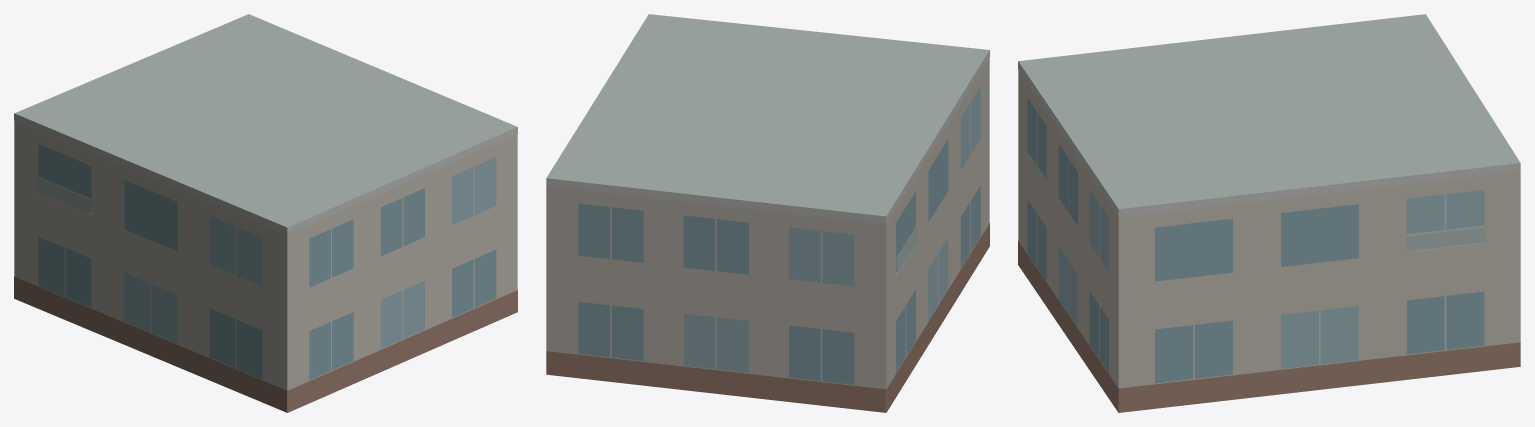
Rendered from survey-upis-32652762.glb.
The picture shows the model from 3 angles, left to right: view 1: azimuth 30°, elevation 25°; view 2: azimuth 150°, elevation 25°; view 3: azimuth 270°, elevation 25°; orthographic projection. The views are drawn at different scales.
Parts seen in each view (by area): view 1: survey-upis-32652762.tmp; view 2: survey-upis-32652762.tmp; view 3: survey-upis-32652762.tmp.
Part boxes in pixels (bbox=[...]): survey-upis-32652762.tmp: bbox=[14, 14, 517, 412]; survey-upis-32652762.tmp: bbox=[546, 14, 989, 412]; survey-upis-32652762.tmp: bbox=[1018, 14, 1520, 412].
Bounding box in the file's own units: 12.54 × 6.1 × 13.65.
